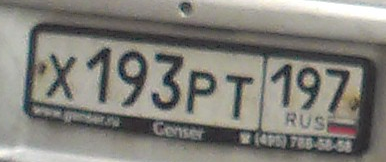character: (115, 50, 148, 112), (151, 52, 184, 114), (45, 50, 79, 103), (85, 44, 112, 108), (222, 72, 255, 122), (187, 68, 218, 118), (324, 65, 351, 116), (269, 60, 295, 110), (296, 64, 321, 114)
